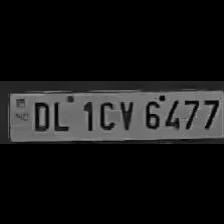1: (75, 96, 95, 132)
4: (162, 96, 180, 130)
6: (139, 96, 161, 130)
7: (199, 96, 219, 130), (180, 96, 198, 130)
C: (94, 96, 116, 130)
D: (28, 97, 52, 130)
L: (50, 96, 72, 132)
V: (116, 96, 136, 130)
